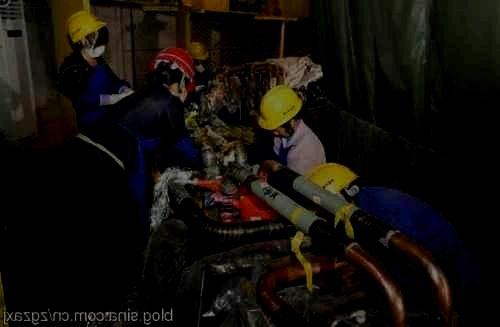helmet: (150, 45, 197, 102), (256, 84, 303, 139), (305, 161, 361, 206), (64, 9, 109, 59), (190, 42, 210, 73)
